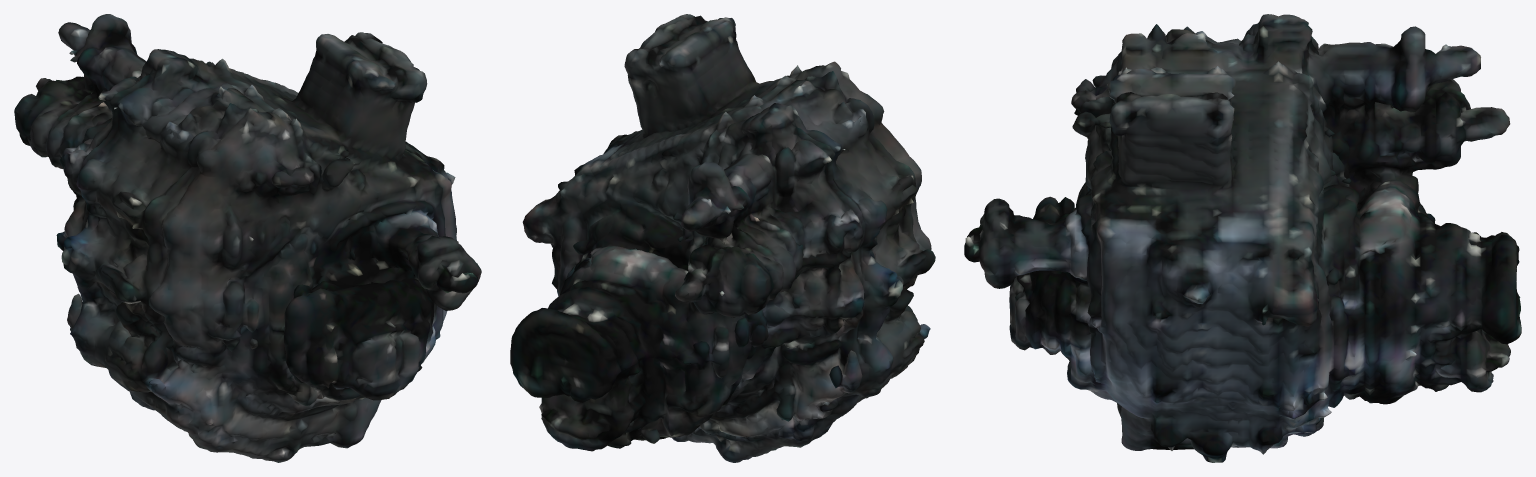
File: transfer.glb
The picture shows the model from 3 angles, left to right: view 1: azimuth 30°, elevation 25°; view 2: azimuth 150°, elevation 25°; view 3: azimuth 270°, elevation 25°; orthographic projection. The views are drawn at different scales.
Parts seen in each view (by area): view 1: geometry_0; view 2: geometry_0; view 3: geometry_0.
Part boxes in pixels (<box>): geometry_0: <box>14,14,481,462</box>; geometry_0: <box>510,14,935,462</box>; geometry_0: <box>964,14,1521,462</box>.
Bounding box in the file's own units: 0.7825 × 0.7807 × 1.
